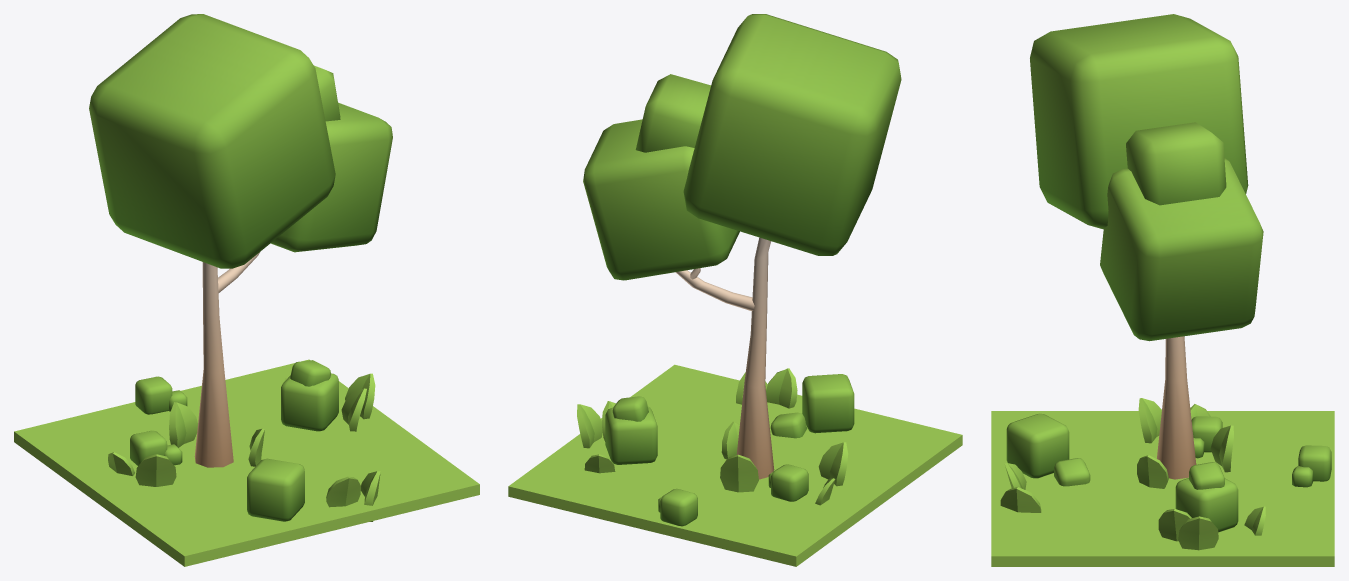
Rendered from beech.glb.
3 views of the same model, side by side, from view 1: azimuth 30°, elevation 25°; view 2: azimuth 150°, elevation 25°; view 3: azimuth 270°, elevation 25° (orthographic). The views are drawn at different scales.
Visible parts, largest first — view 1: Beech; view 2: Beech; view 3: Beech.
Part boxes in pixels (x1,y1,x2,y2): Beech: (14,14,479,566); Beech: (508,14,962,566); Beech: (991,14,1334,566).
Size of the model in its own units: 0.29 by 0.4311 by 0.29.
1 material, 1 textured.
